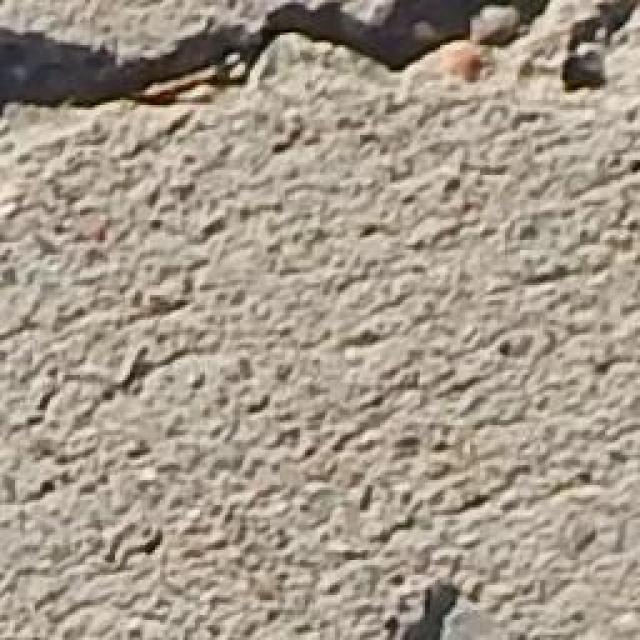concrete-crack: (0, 0, 569, 132), (559, 0, 640, 101), (389, 575, 474, 640)
